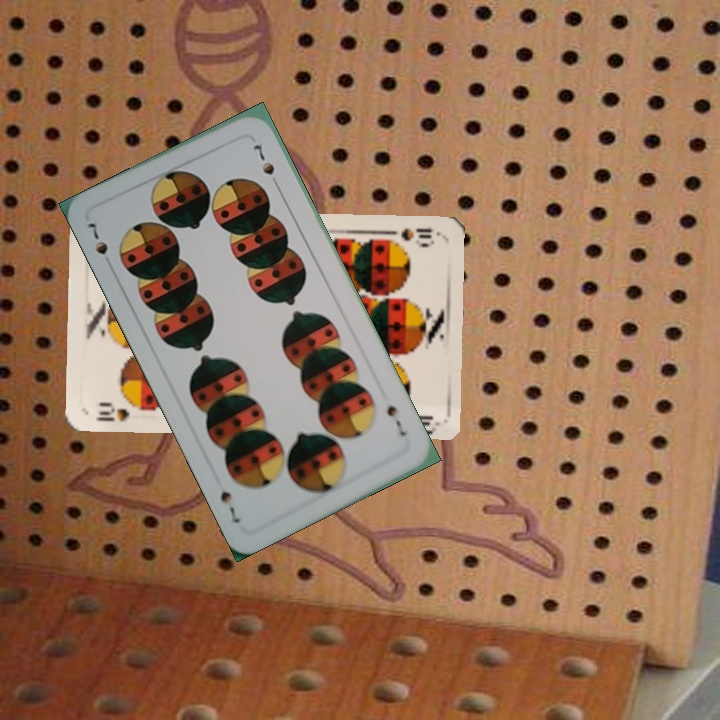S10: (92, 399, 147, 424), (397, 224, 436, 247)
S7: (82, 218, 111, 258), (382, 401, 410, 439)
